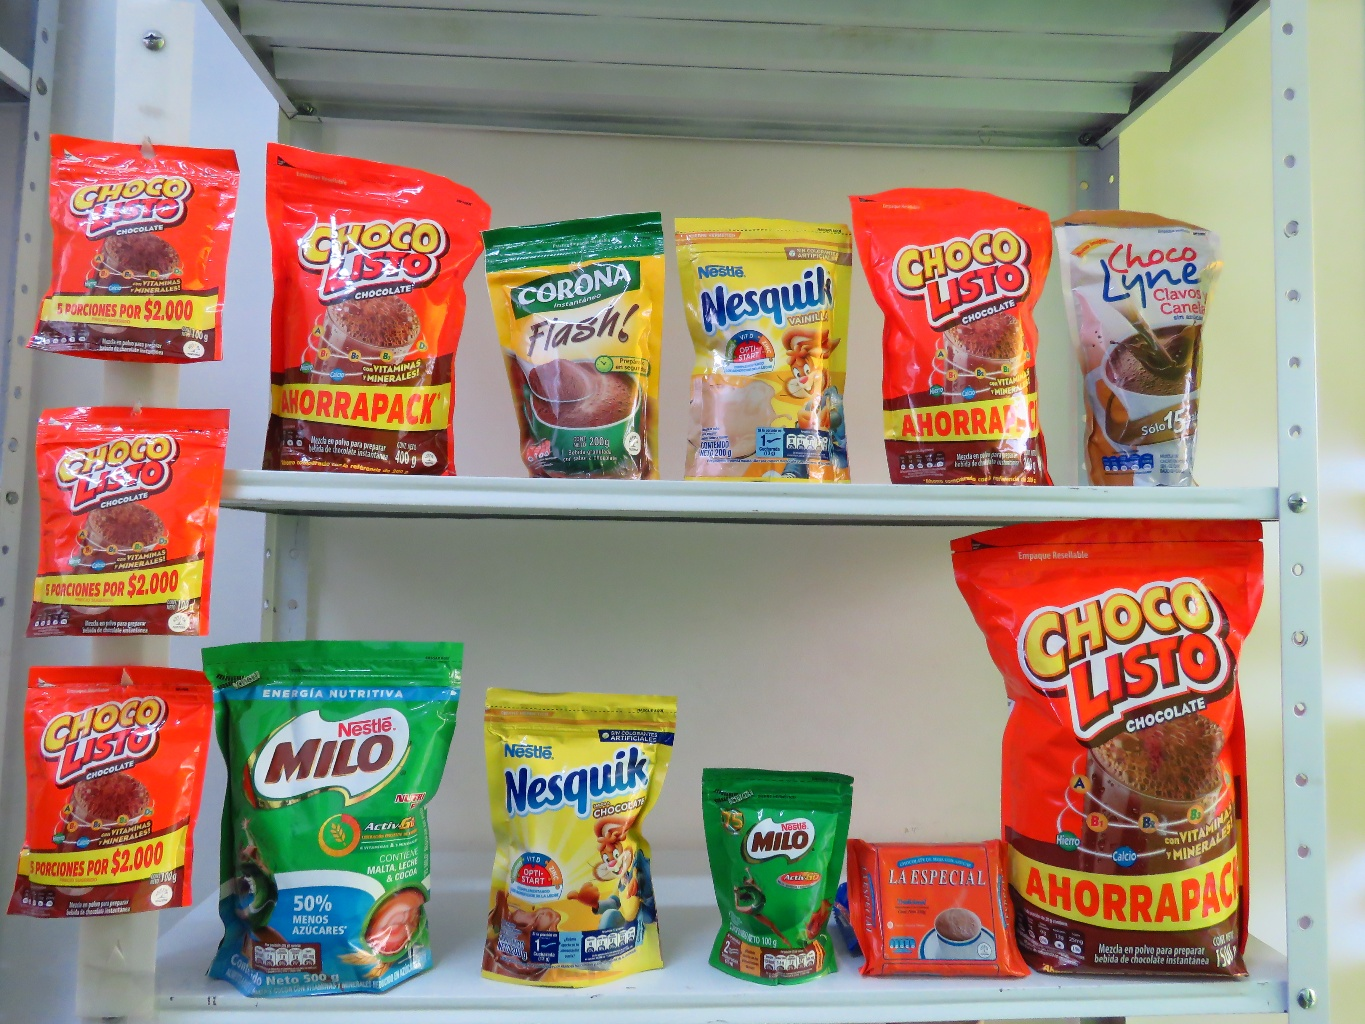COL0170103DYP1,500: (964, 522, 1261, 978)
COL0170103DYP10000: (6, 656, 211, 927)
COL0170103DYP36000: (853, 175, 1073, 481)
COL0170103DYP40000: (258, 129, 480, 478)
COL0170203DYP10000: (703, 767, 851, 985)
COL0170205DYP50000: (213, 627, 481, 1002)
COL0170303DYP20000: (485, 682, 678, 991)
COL0170306DYP20000: (677, 215, 847, 477)
